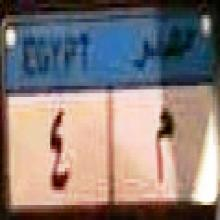4: (46, 105, 74, 193)
meem: (150, 102, 177, 183)
